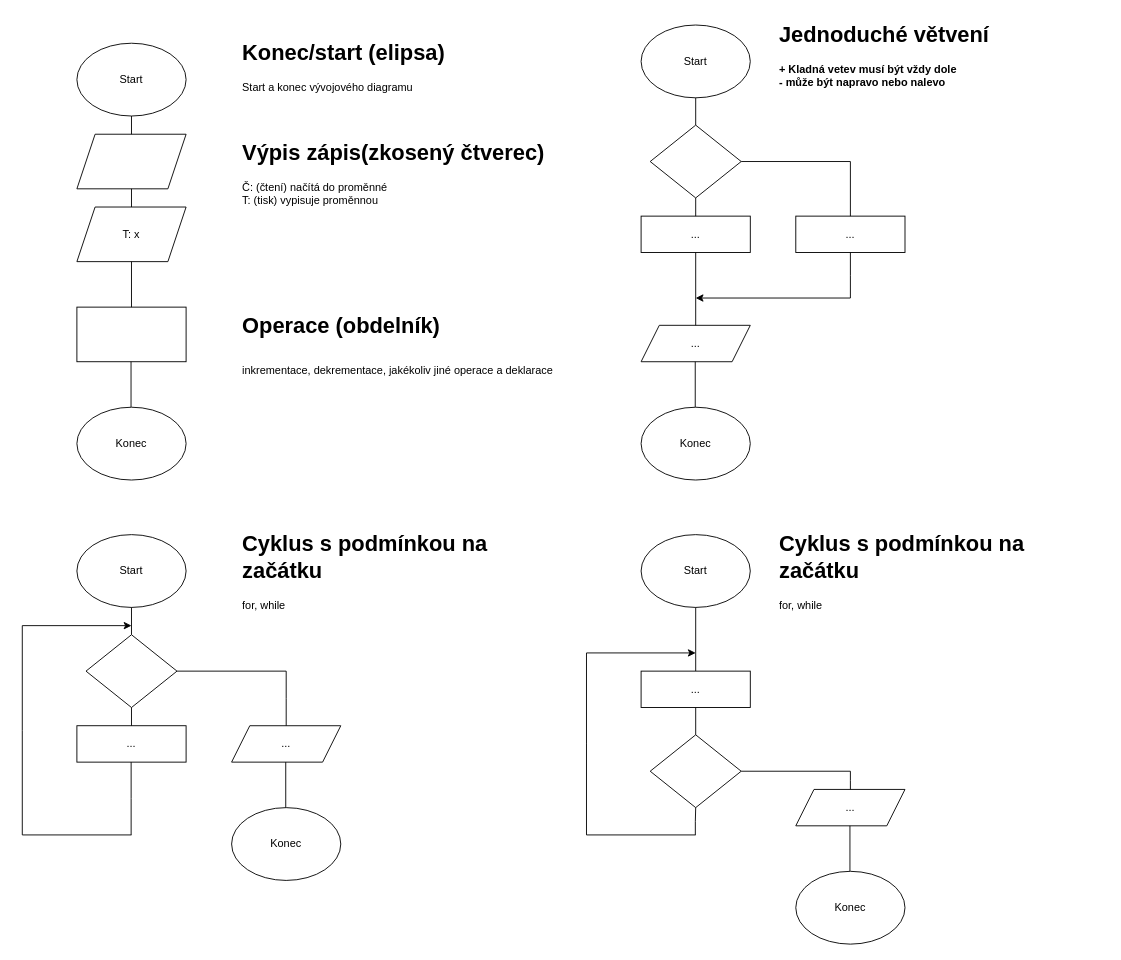
Image size: 1121x960. Some labels were removed from this diagram. The centre of each missing label's shape, as x and y in pixels:
x+=10: the point at 131,334
Č: x: the point at 131,161
